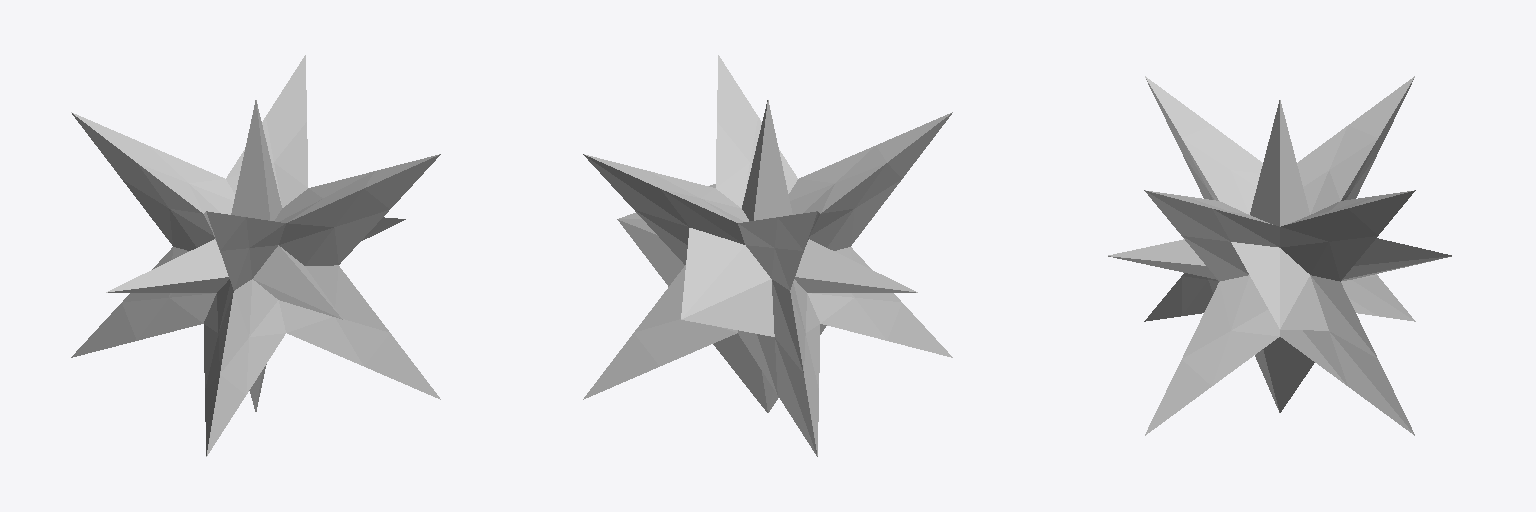
The model's file is star3d.obj.
3 renders of one model, left to right at view 1: azimuth 30°, elevation 25°; view 2: azimuth 150°, elevation 25°; view 3: azimuth 270°, elevation 25°, orthographic.
Visible parts, largest first — view 1: star3d; view 2: star3d; view 3: star3d.
Part boxes in pixels (x1,y1,x2,y2): star3d: (71, 55, 440, 456); star3d: (583, 55, 952, 456); star3d: (1108, 76, 1451, 435).
Size of the model in its own units: 1.28 by 1.28 by 1.28.